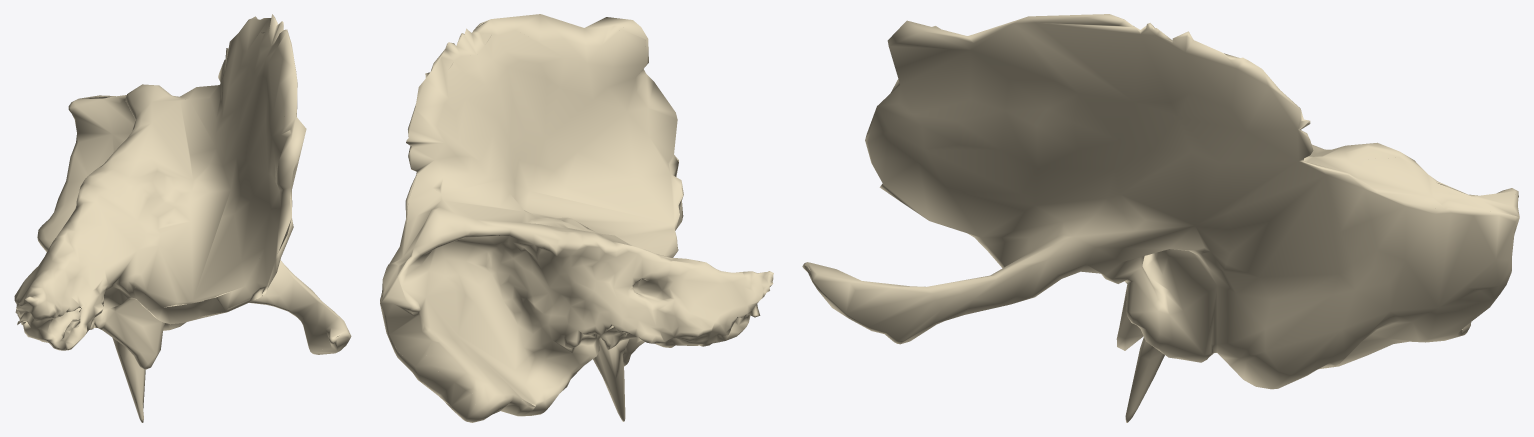
Rendered from esqueleto-temporal-bone-l.glb.
The picture shows the model from 3 angles, left to right: view 1: azimuth 30°, elevation 25°; view 2: azimuth 150°, elevation 25°; view 3: azimuth 270°, elevation 25°; orthographic projection. The views are drawn at different scales.
Parts seen in each view (by area): view 1: Temporal bone.l; view 2: Temporal bone.l; view 3: Temporal bone.l.
Boxes of the visible parts, x1,y1,x2,y2 form: Temporal bone.l: (14,14,351,422); Temporal bone.l: (380,14,773,422); Temporal bone.l: (802,14,1519,422).
Size of the model in its own units: 0.0628 by 0.0744 by 0.0963.
